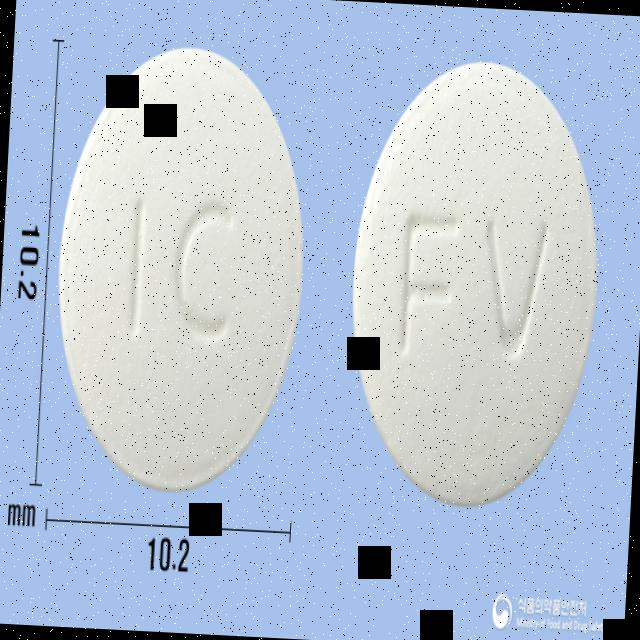Famviro: (342, 53, 612, 514), (47, 37, 316, 494)
